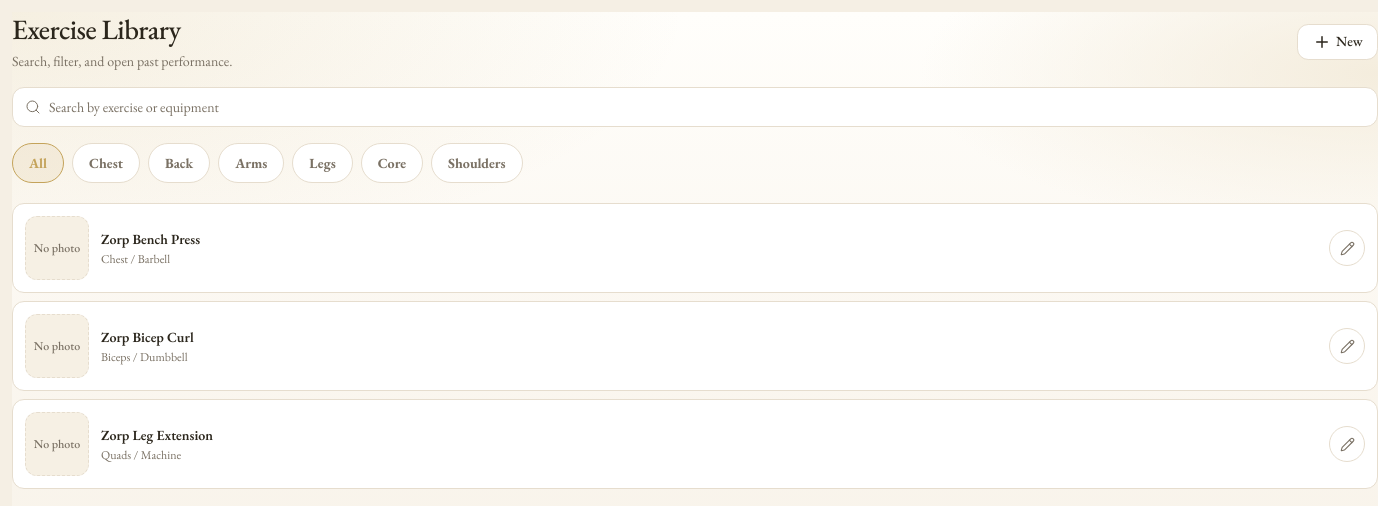
Test: ExerciseLibrary buttons › links New to create and shows clear search when query is set
This screenshot has width=1378, height=506.
In the field with placeholder "Search by exercise or equipment": (707, 107) [49,98,1365,116], type "Zorp Bicep Curl"
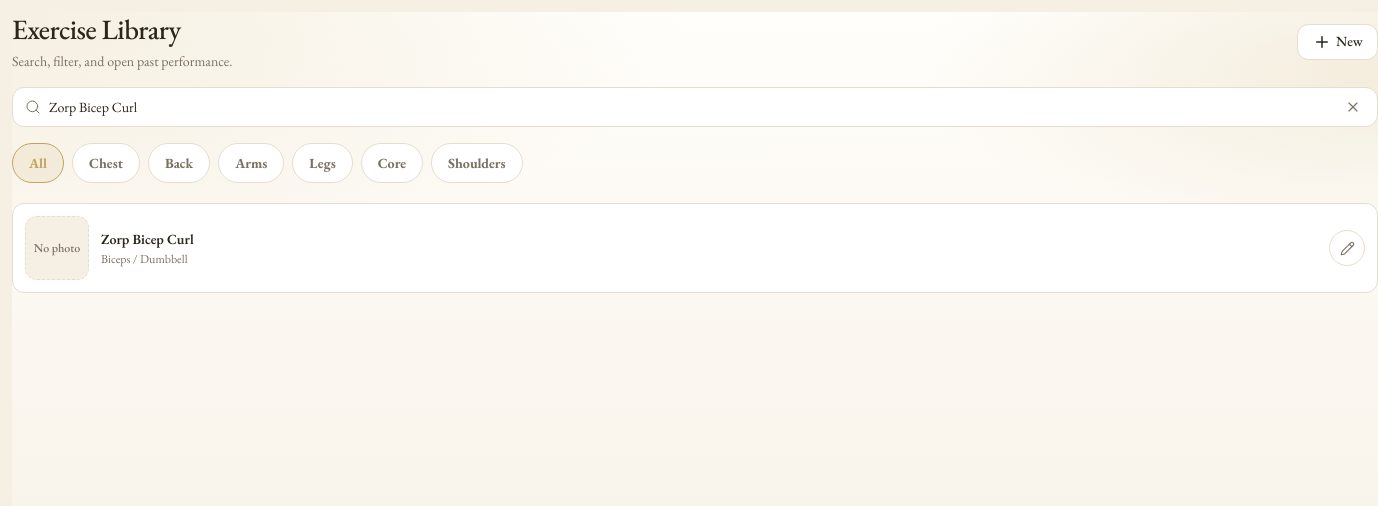
Check: the heading "Zorp Bicep Curl" is shown, box [101,229,194,249]
Check: the link "Zorp Bench Press" is gone
Check: the link "Zorp Leg Extension" is gone
Click the button named "clear search": (1353, 107) [1341,95,1365,119]
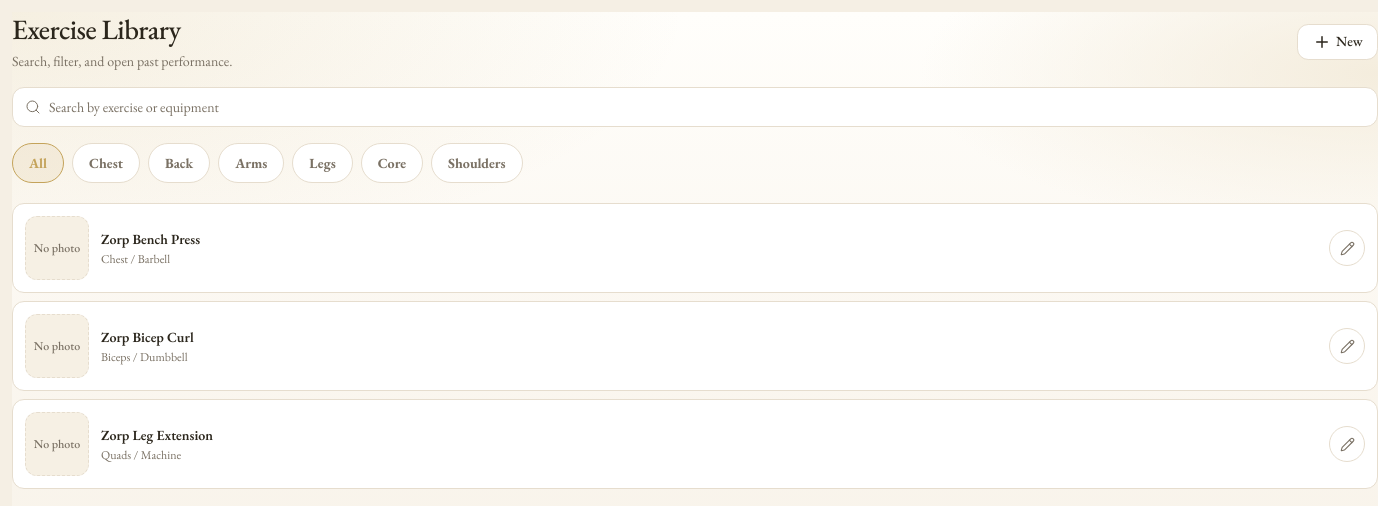
Check: the field with placeholder "Search by exercise or equipment" is empty, box [49,98,1365,116]
Check: the heading "Zorp Bench Press" is shown, box [101,229,200,249]
